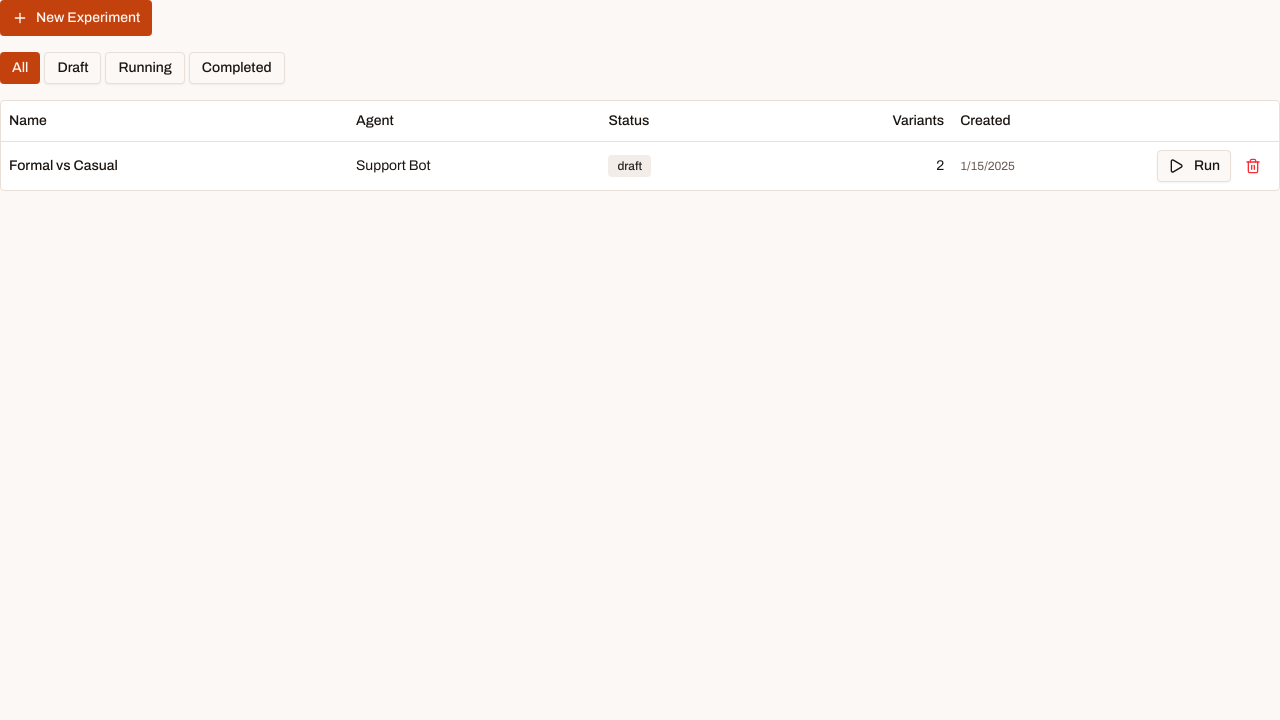
Test: ExperimentsList › Delete action › shows error message when delete fails with generic error
This screenshot has width=1280, height=720.
Expected: the text "Formal vs Casual" is shown, [9,158,118,172]
Step 1. Click the button named "delete experiment" → (1253,166), box [1235,150,1271,182]
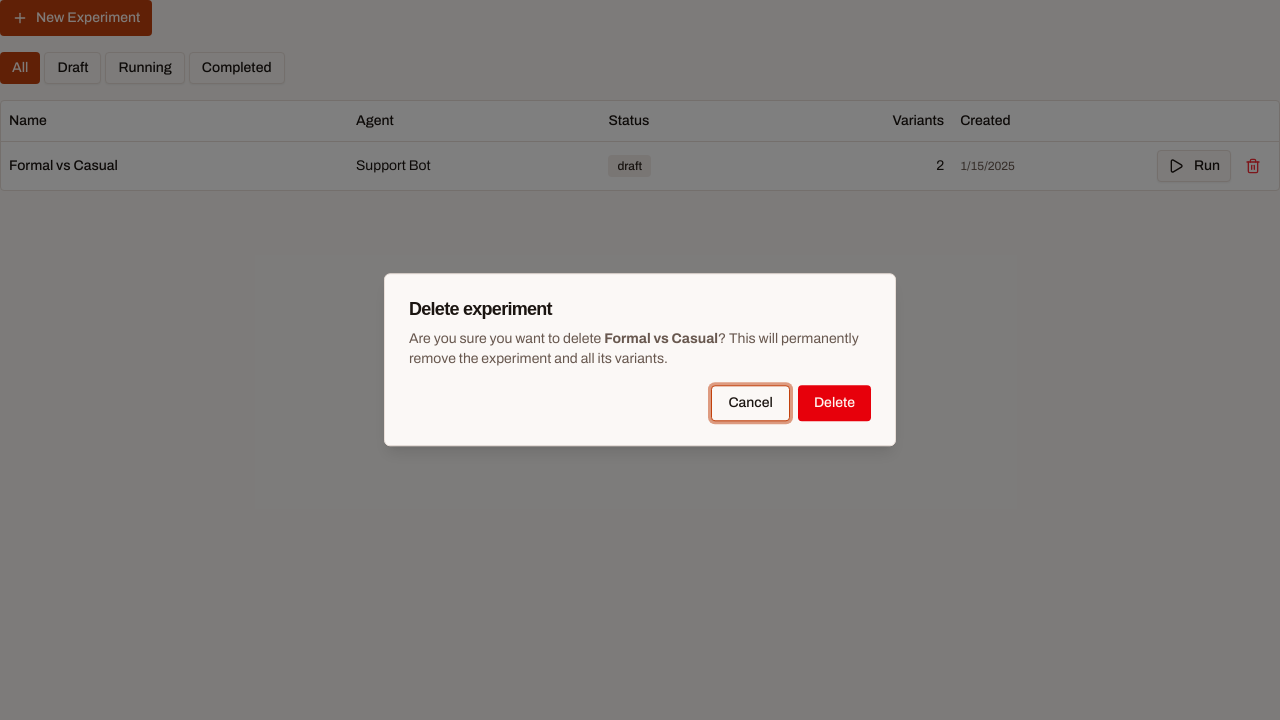
Expected: the text "Are you sure" is shown, [409,332,604,347]
Step 2. Click the button "Delete" → (834,404), box [798,386,871,422]
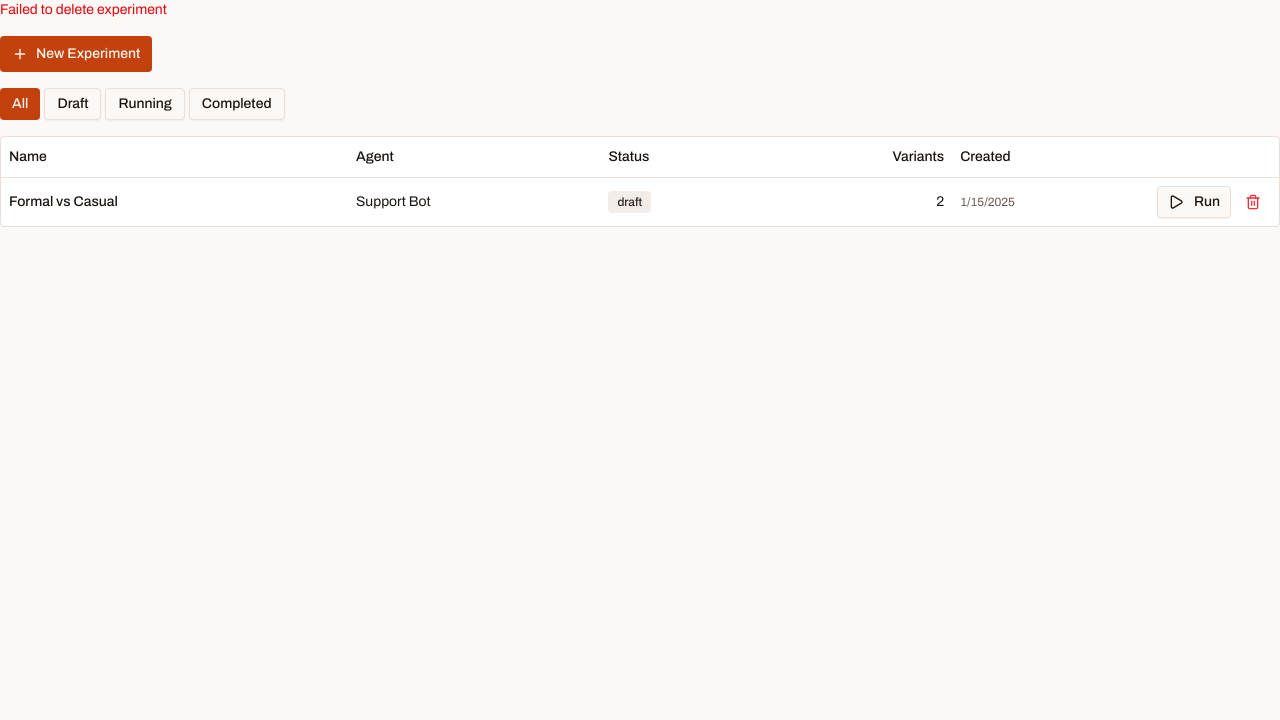
Expected: the text "Failed to delete experiment" is shown, [0,2,167,17]
